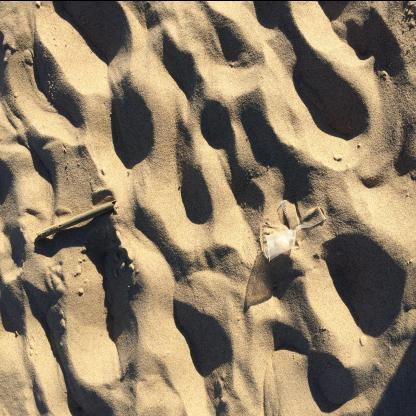plastik: (263, 198, 325, 260)
